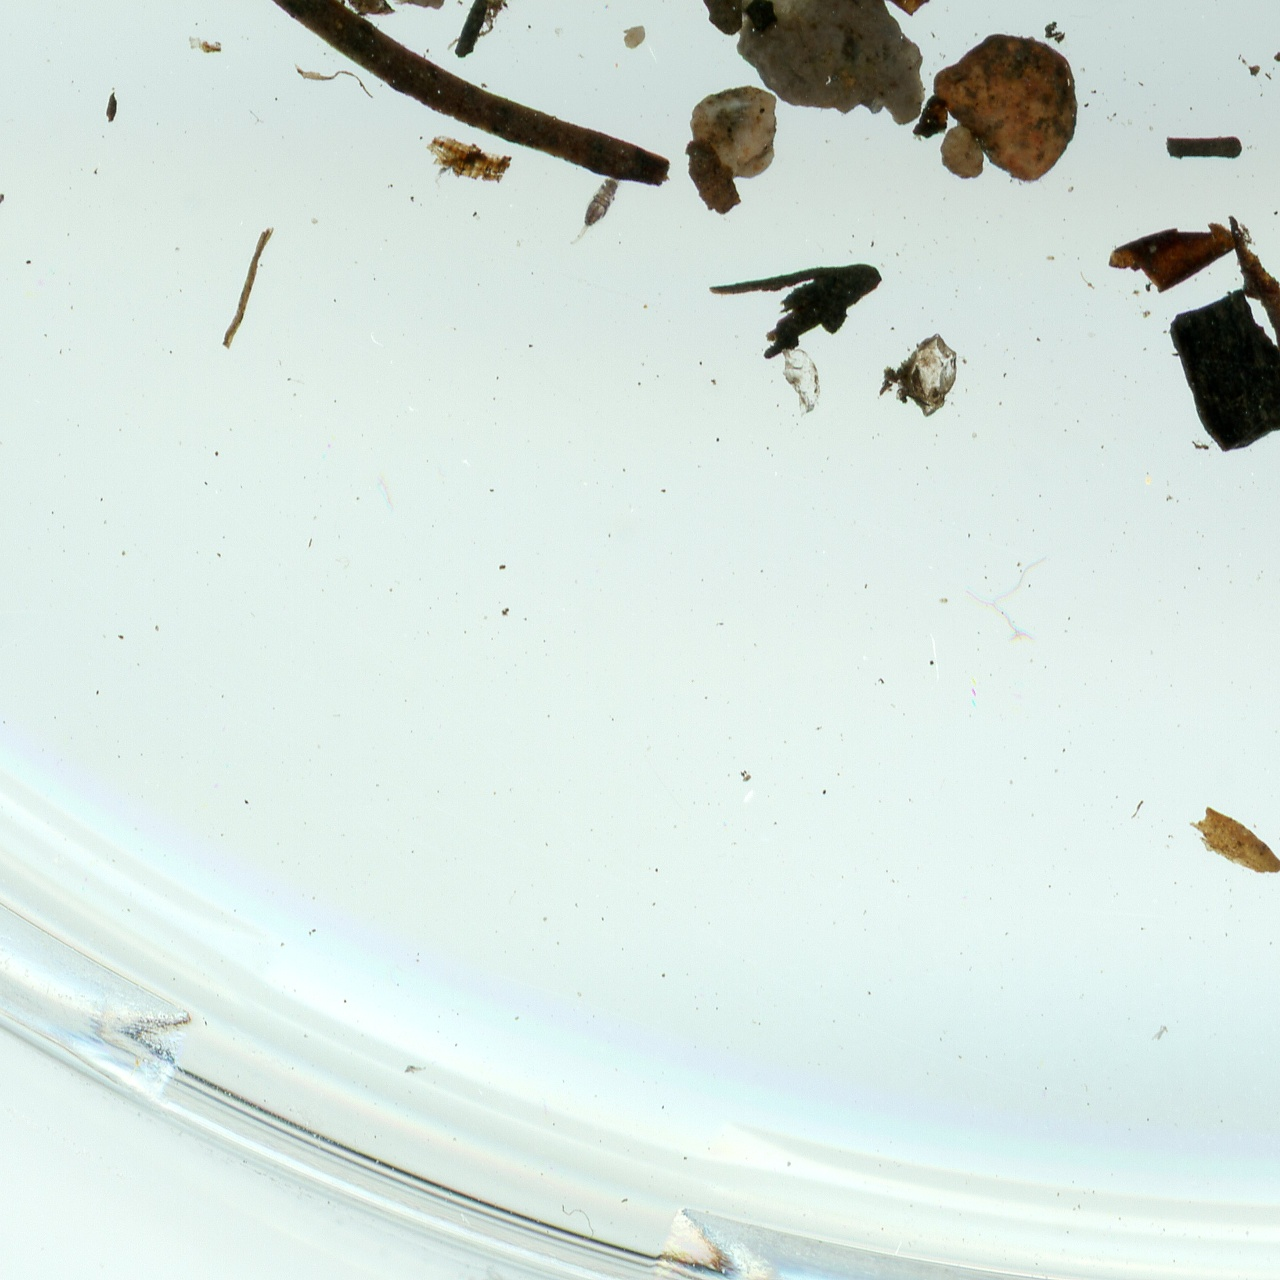arthropod: (561, 167, 626, 256), (0, 191, 10, 248)
